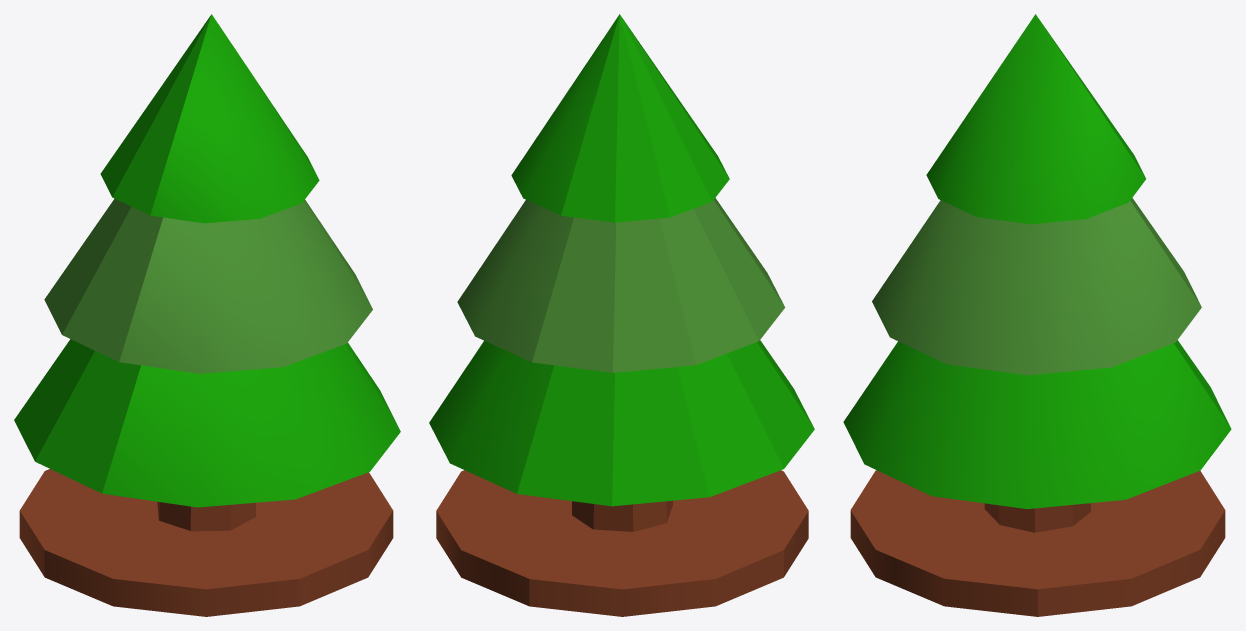
File: Tree_on_map.fbx
The picture shows the model from 3 angles, left to right: view 1: azimuth 30°, elevation 25°; view 2: azimuth 150°, elevation 25°; view 3: azimuth 270°, elevation 25°; orthographic projection.
Visible parts, largest first — view 1: Cylinder; view 2: Cylinder; view 3: Cylinder.
Part boxes in pixels (x1,y1,x2,y2): Cylinder: (14,14,400,616); Cylinder: (429,14,814,616); Cylinder: (843,14,1231,616).
Size of the model in its own units: 104 by 156 by 104.
